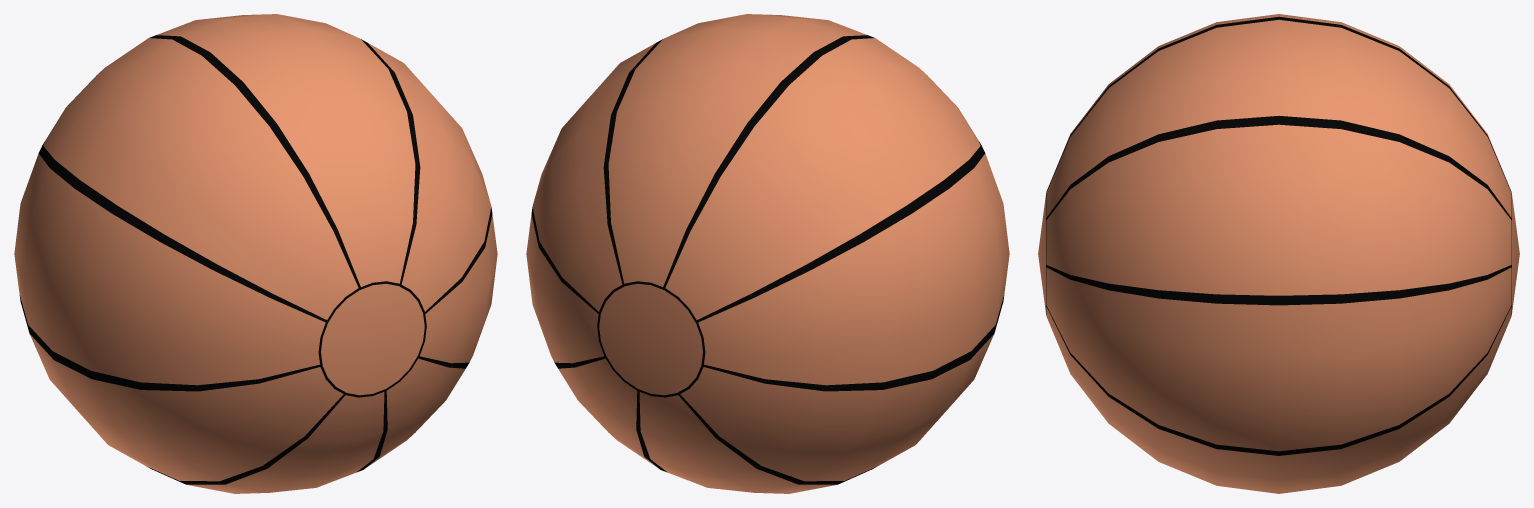
The model's file is Ball_02.fbx.
3 renders of one model, left to right at view 1: azimuth 30°, elevation 25°; view 2: azimuth 150°, elevation 25°; view 3: azimuth 270°, elevation 25°, orthographic.
Visible parts, largest first — view 1: Sphere002; view 2: Sphere002; view 3: Sphere002.
Boxes of the visible parts, x1,y1,x2,y2 form: Sphere002: (14, 14, 497, 493); Sphere002: (526, 14, 1009, 493); Sphere002: (1038, 14, 1519, 493).
Bounding box in the file's own units: 107 × 107 × 107.
